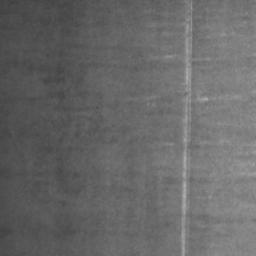Bright scratch: (182, 0, 193, 256)
